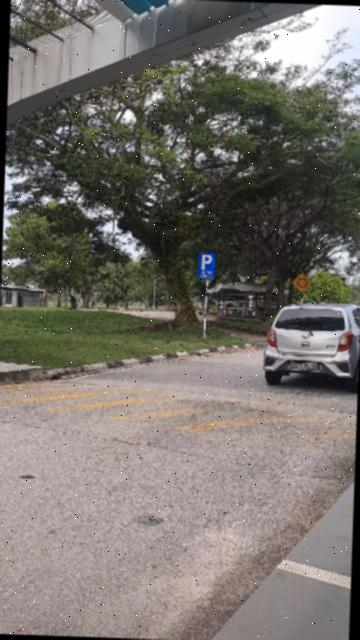License_Plate: (287, 360, 324, 373)
car: (263, 300, 360, 393)
